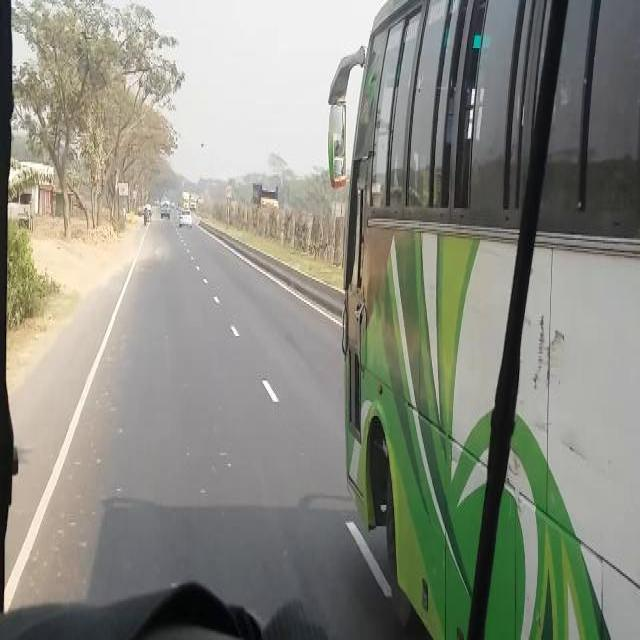vehicle: (329, 8, 640, 638), (254, 184, 279, 214), (179, 209, 193, 227), (160, 197, 170, 217), (182, 192, 190, 208), (190, 196, 198, 208)
